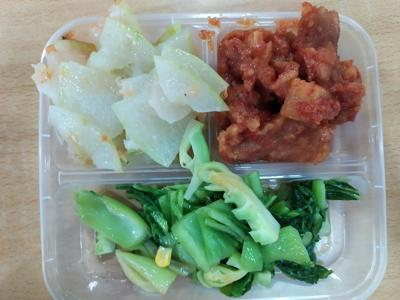dg: (47, 20, 211, 166)
r2: (218, 18, 364, 166)
yc: (57, 183, 381, 293)
